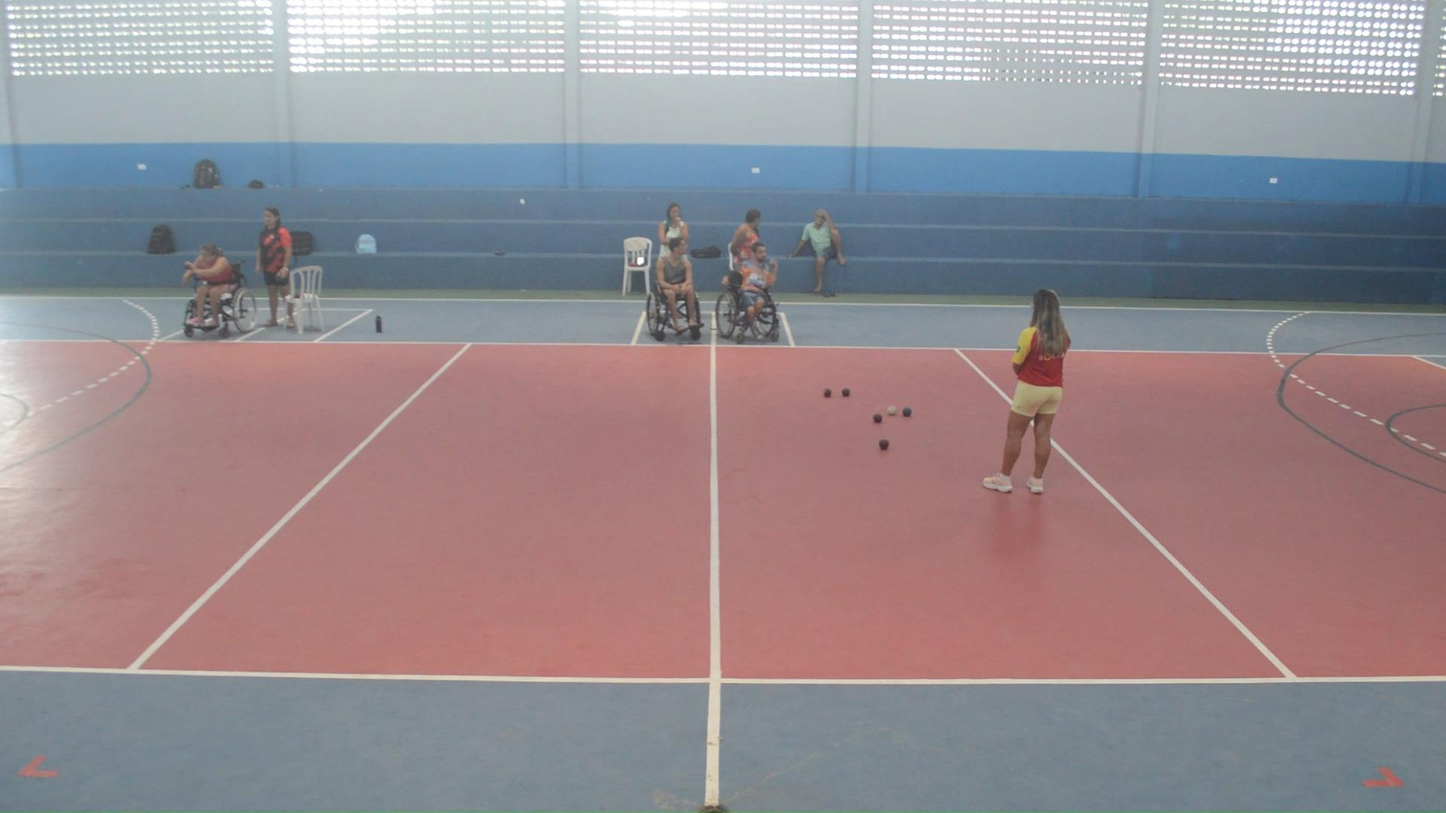blue_ball: (902, 406, 912, 417)
red_ball: (879, 438, 890, 451), (841, 387, 851, 398), (822, 388, 833, 398), (873, 413, 883, 423)
white_ball: (887, 405, 897, 417)
